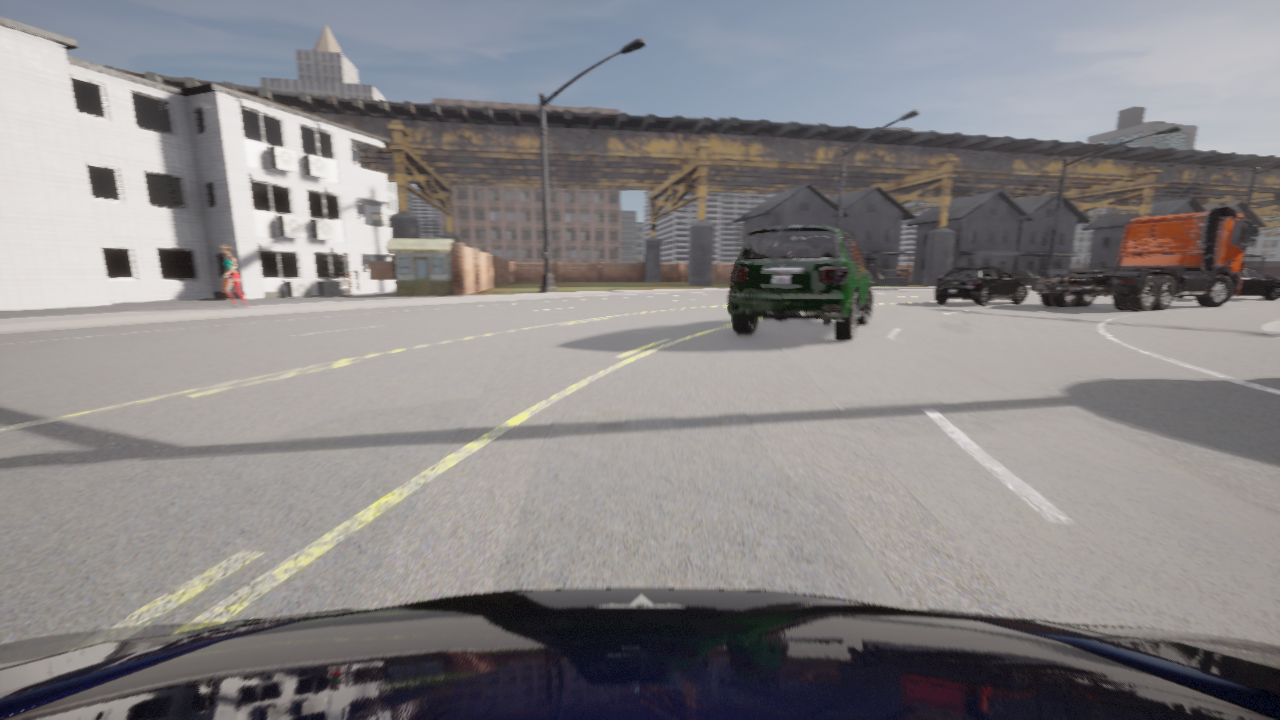cyclist: (0, 588, 1279, 719), (1031, 206, 1257, 311), (728, 225, 876, 341), (935, 267, 1027, 305), (1174, 268, 1279, 299)
pedestrian: (221, 246, 248, 309), (940, 274, 942, 277)
